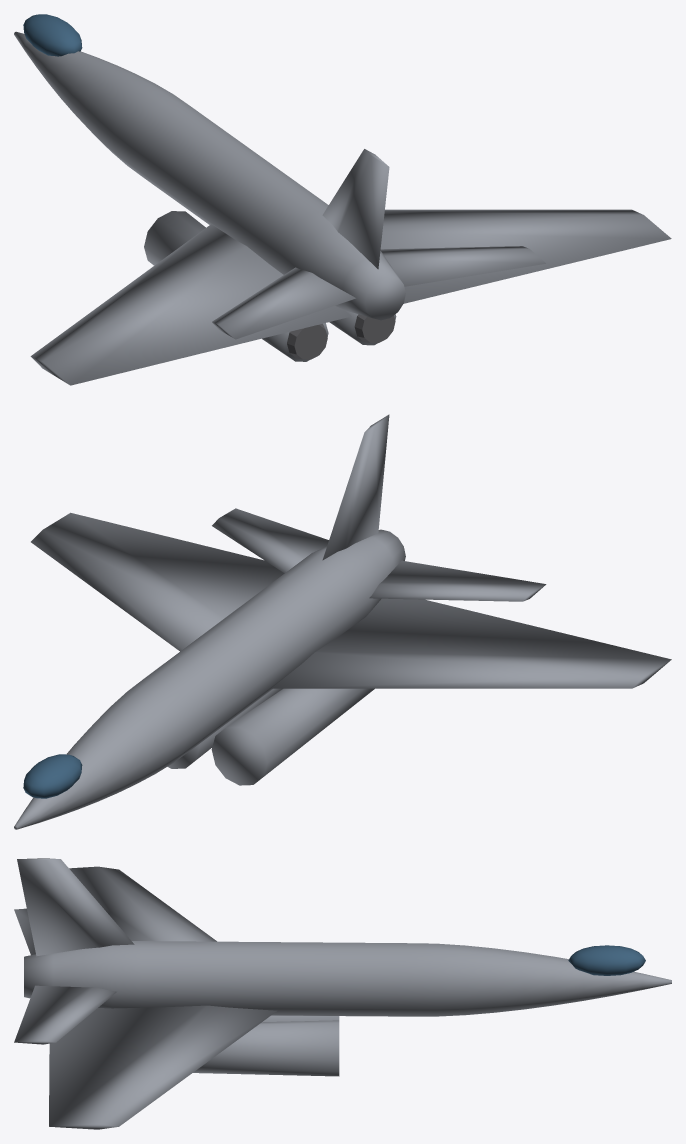
The picture shows the model from 3 angles, top to bottom: view 1: azimuth 30°, elevation 25°; view 2: azimuth 150°, elevation 25°; view 3: azimuth 270°, elevation 25°; orthographic projection. The views are drawn at different scales.
Parts seen in each view (by area): view 1: Body, Detail, Canopy; view 2: Body, Canopy; view 3: Body, Canopy.
Boxes of the visible parts, x1,y1,x2,y2 form: Body: [14, 31, 671, 385]; Detail: [287, 314, 395, 359]; Canopy: [23, 14, 82, 56]; Body: [14, 414, 671, 829]; Canopy: [23, 754, 82, 798]; Body: [14, 858, 671, 1129]; Canopy: [568, 945, 645, 975].
Bounding box in the file's own units: 4180 × 1518 × 4518.
